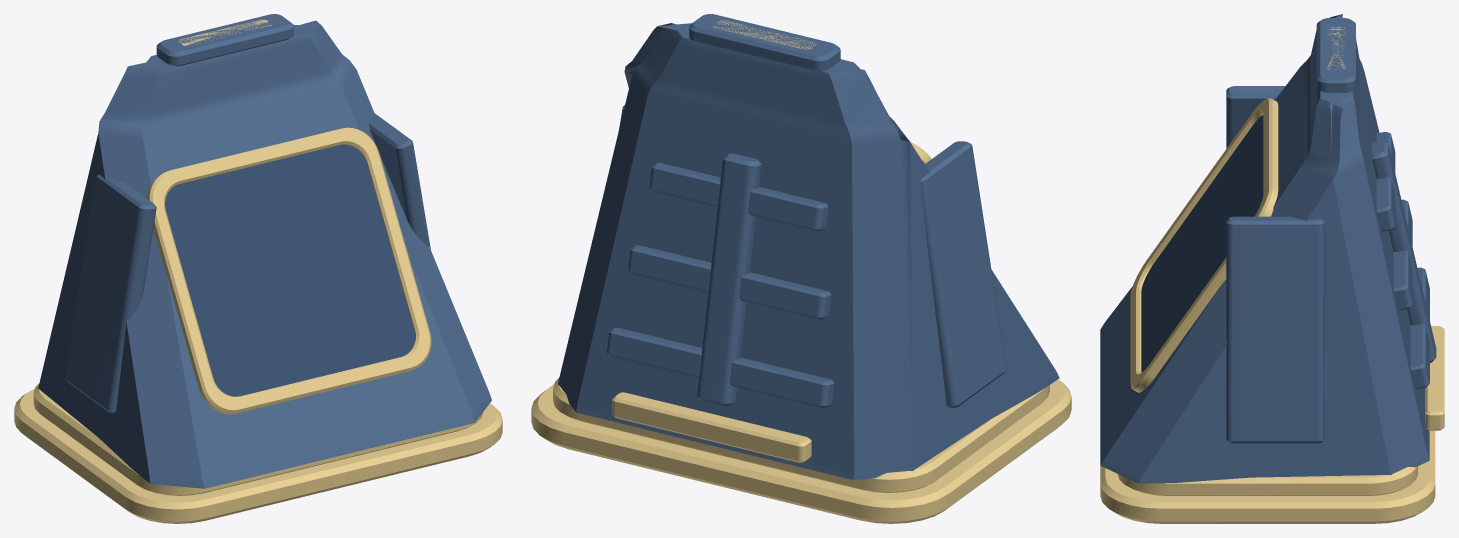
File: command_wedge.glb
3 views of the same model, side by side, from view 1: azimuth 30°, elevation 25°; view 2: azimuth 150°, elevation 25°; view 3: azimuth 270°, elevation 25° (orthographic). The views are drawn at different scales.
Parts seen in each view (by area): view 1: WedgeBody, WedgeEscutcheon, WedgeBrassPlinth; view 2: WedgeBody, WedgeBrassPlinth; view 3: WedgeBody, WedgeBrassPlinth, WedgeEscutcheon.
Boxes of the visible parts, box(x1,y1,x2,y2) form: WedgeBody: box(38, 14, 491, 488); WedgeEscutcheon: box(165, 144, 414, 396); WedgeBrassPlinth: box(14, 19, 502, 523); WedgeBody: box(558, 14, 1059, 480); WedgeBrassPlinth: box(531, 20, 1071, 523); WedgeBody: box(1100, 14, 1436, 483); WedgeBrassPlinth: box(1100, 27, 1444, 523); WedgeEscutcheon: box(1141, 115, 1263, 372).
Size of the model in its own units: 0.76 by 0.735 by 0.596.
